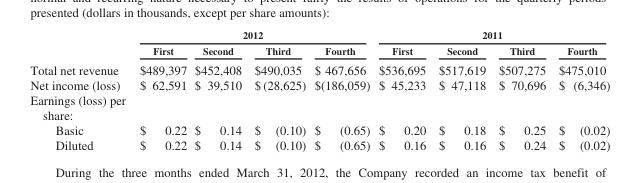table: (29, 28, 609, 152)
table column: (29, 28, 129, 152), (309, 28, 373, 152), (247, 28, 309, 152), (129, 28, 190, 152), (431, 28, 491, 152), (491, 28, 551, 152), (373, 28, 431, 152), (551, 28, 609, 152), (190, 28, 247, 152)
table column header: (29, 28, 609, 59)
table projected row header: (29, 92, 609, 122)
table row: (29, 92, 609, 122), (29, 42, 609, 59), (29, 59, 609, 76), (29, 76, 609, 92), (29, 122, 609, 137), (29, 137, 609, 152), (29, 28, 609, 42)
table spanning cell: (129, 28, 373, 42), (373, 28, 609, 42)
